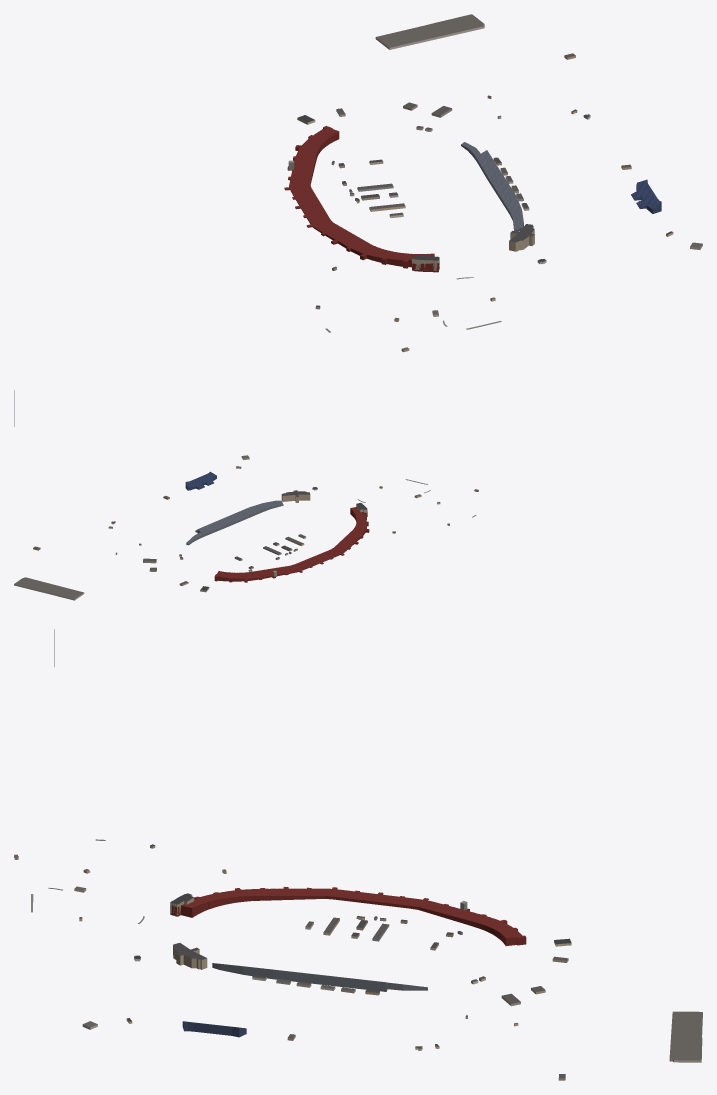
File: scenery.glb
The picture shows the model from 3 angles, top to bottom: view 1: azimuth 30°, elevation 25°; view 2: azimuth 150°, elevation 25°; view 3: azimuth 270°, elevation 25°; orthographic projection. The views are drawn at different scales.
Parts seen in each view (by area): view 1: chunk_14_15, chunk_15_15, chunk_16_12, chunk_14_16; view 2: chunk_14_15, chunk_15_15, chunk_16_12, chunk_14_16, chunk_16_16; view 3: chunk_14_15, chunk_15_15, chunk_16_12, chunk_14_16.
Part boxes in pixels (bbox=[...]): chunk_14_15: bbox=[284, 126, 439, 272]; chunk_15_15: bbox=[461, 142, 529, 231]; chunk_16_12: bbox=[375, 14, 484, 49]; chunk_14_16: bbox=[412, 224, 546, 279]; chunk_14_15: bbox=[214, 506, 369, 582]; chunk_15_15: bbox=[186, 500, 283, 545]; chunk_16_12: bbox=[14, 577, 84, 600]; chunk_14_16: bbox=[281, 487, 367, 515]; chunk_16_16: bbox=[185, 471, 216, 490]; chunk_14_15: bbox=[170, 887, 526, 945]; chunk_15_15: bbox=[212, 963, 427, 995]; chunk_16_12: bbox=[669, 1011, 702, 1062]; chunk_14_16: bbox=[134, 893, 207, 969].
Bounding box in the file's own units: 2827 × 141 × 2015.
